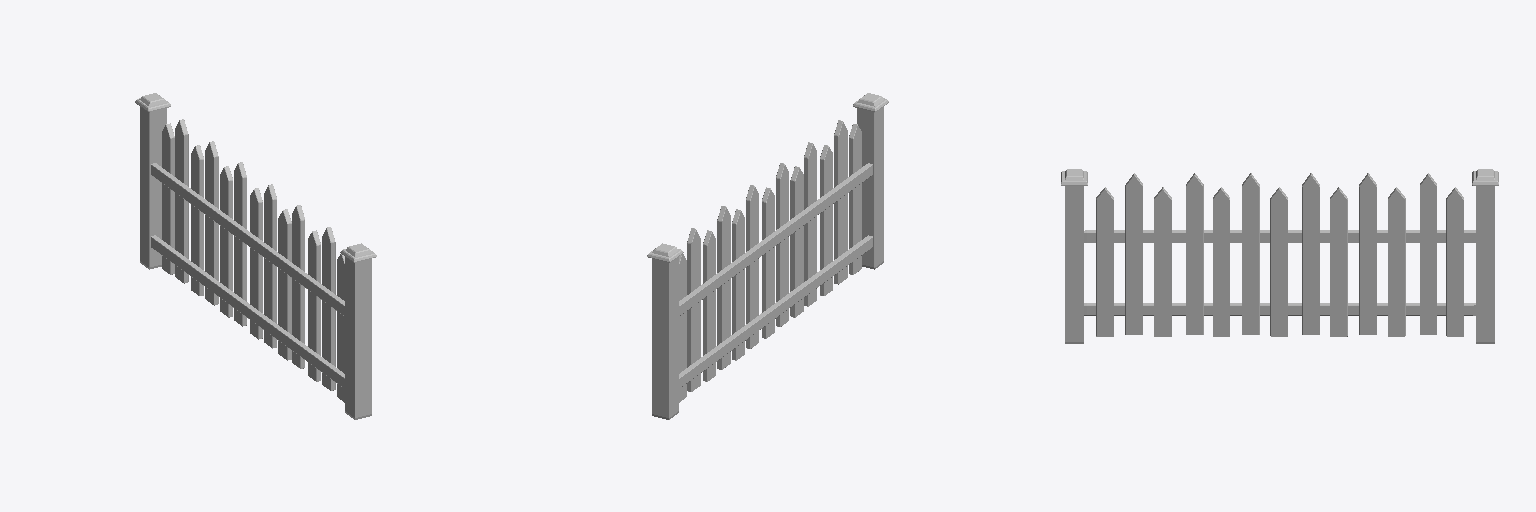
File: fence.obj
3 renders of one model, left to right at view 1: azimuth 30°, elevation 25°; view 2: azimuth 150°, elevation 25°; view 3: azimuth 270°, elevation 25°, orthographic.
Visible parts, largest first — view 1: Cube.004, Cube.002, Cube.001, Cube.003, Cube.014, Cube.006, Cube.015, Cube.008, Cube.007, Cube.009, Cube.011, Cube.005 (+5 smaller); view 2: Cube.002, Cube.004, Cube.001, Cube.003, Cube.014, Cube.006, Cube.015, Cube.007, Cube.008, Cube.009, Cube.011, Cube.013 (+5 smaller); view 3: Cube.004, Cube.002, Cube.008, Cube.009, Cube.014, Cube.006, Cube.007, Cube.015, Cube, Cube.005, Cube.013, Cube.012 (+5 smaller).
Boxes of the visible parts, box(x1,y1,x2,y2) form: Cube.004: box(340, 243, 376, 419); Cube.002: box(135, 93, 170, 269); Cube.001: box(151, 163, 344, 315); Cube.003: box(151, 235, 344, 388); Cube.014: box(205, 141, 218, 305); Cube.006: box(322, 227, 335, 390); Cube.015: box(175, 119, 188, 283); Cube.008: box(234, 162, 246, 326); Cube.007: box(292, 205, 304, 368); Cube.009: box(264, 184, 276, 348); Cube.011: box(278, 209, 291, 360); Cube.005: box(308, 230, 320, 381); Cube.002: box(647, 243, 683, 419); Cube.004: box(853, 93, 888, 269); Cube.001: box(679, 163, 872, 315); Cube.003: box(679, 235, 872, 388); Cube.014: box(717, 206, 730, 369); Cube.006: box(834, 120, 847, 284); Cube.015: box(687, 228, 700, 391); Cube.007: box(804, 142, 816, 306); Cube.008: box(746, 185, 758, 348); Cube.009: box(776, 163, 788, 326); Cube.011: box(790, 166, 803, 317); Cube.013: box(703, 230, 715, 381); Cube.004: box(1061, 169, 1087, 343); Cube.002: box(1472, 169, 1498, 343); Cube.008: box(1302, 173, 1319, 334); Cube.009: box(1242, 173, 1259, 334); Cube.014: box(1359, 173, 1376, 334); Cube.006: box(1125, 173, 1142, 334); Cube.007: box(1186, 173, 1203, 334); Cube.015: box(1420, 173, 1436, 334); Cube: box(1096, 187, 1113, 336); Cube.005: box(1154, 187, 1171, 336); Cube.013: box(1388, 187, 1405, 336); Cube.012: box(1330, 187, 1347, 336).
Bounding box in the file's own units: 0.4684 × 3.17 × 7.55.